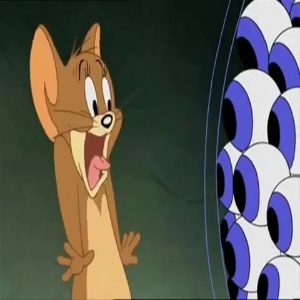Jerry: (27, 24, 132, 196)
